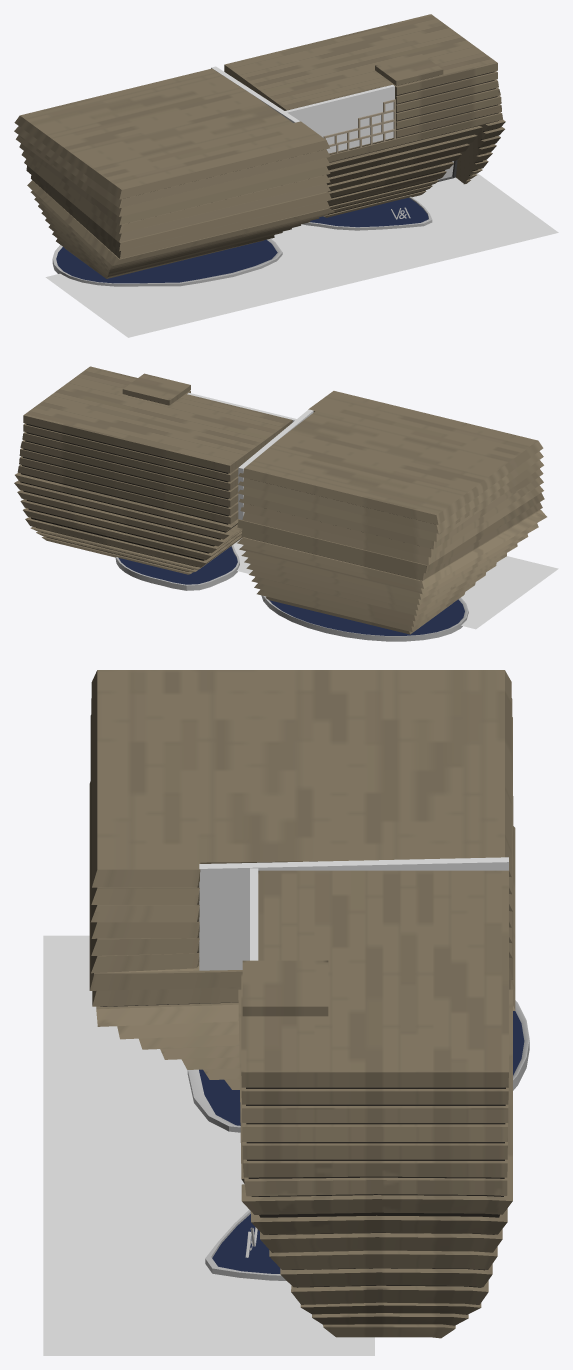
The picture shows the model from 3 angles, top to bottom: view 1: azimuth 30°, elevation 25°; view 2: azimuth 150°, elevation 25°; view 3: azimuth 270°, elevation 25°; orthographic projection. The views are drawn at different scales.
Visible parts, largest first — view 1: V&A, Ground.007; view 2: V&A, Ground.007; view 3: V&A, Ground.007.
Boxes of the visible parts, x1,y1,x2,y2 form: V&A: (14, 14, 505, 286); Ground.007: (45, 173, 558, 337); V&A: (14, 366, 546, 641); Ground.007: (233, 538, 558, 629); V&A: (89, 670, 529, 1338); Ground.007: (43, 935, 374, 1355).
Size of the model in its own units: 6027 by 1934 by 2934.
8 materials, 1 textured.
